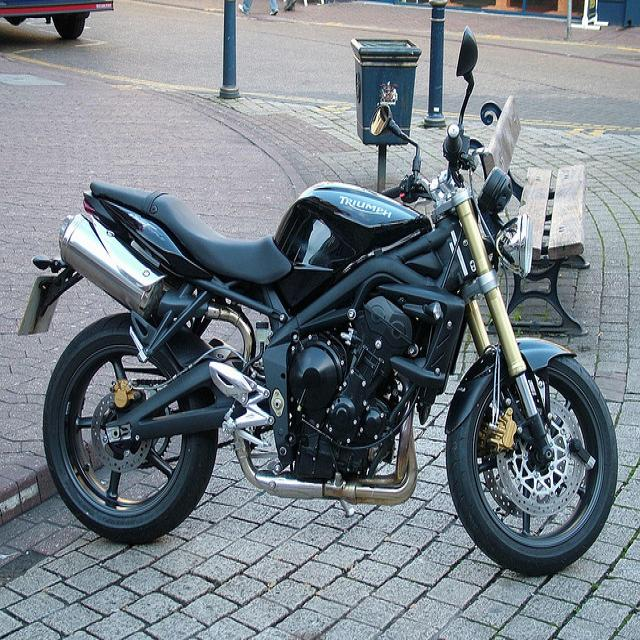motor: (21, 23, 615, 576)
